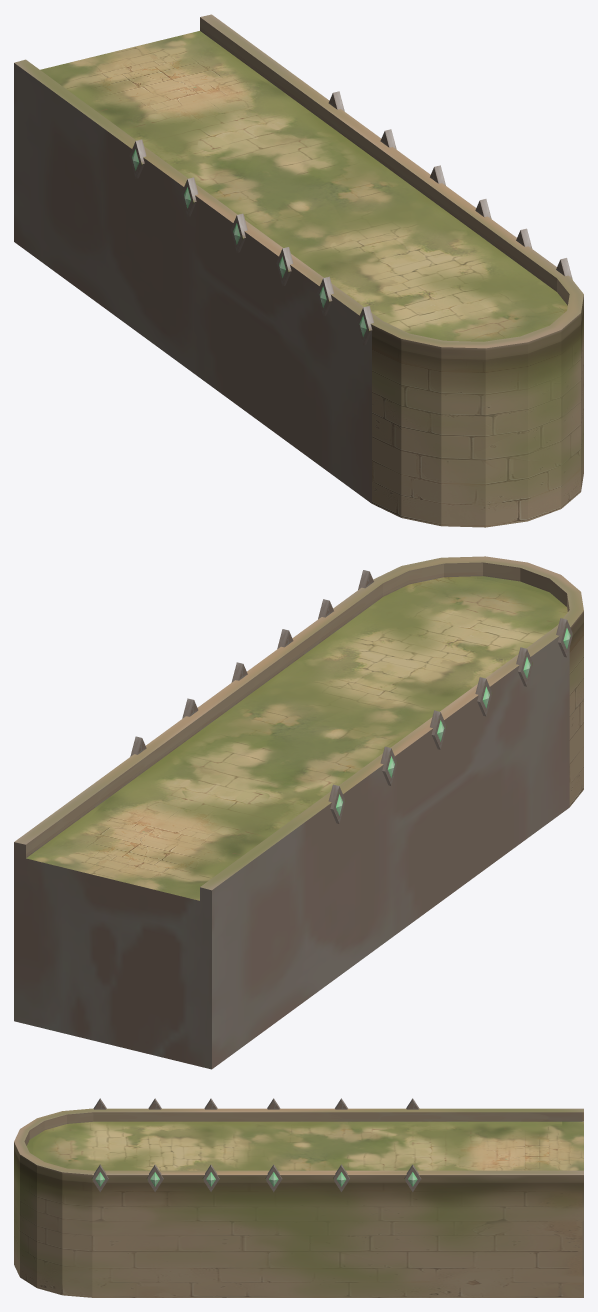
Rendered from Main_1005_obj_01.fbx.
3 views of the same model, one above another, from view 1: azimuth 30°, elevation 25°; view 2: azimuth 150°, elevation 25°; view 3: azimuth 270°, elevation 25° (orthographic). The views are drawn at different scales.
Parts seen in each view (by area): view 1: Circle.005, Cube.018, Cube.020; view 2: Circle.005, Cube.020; view 3: Circle.005, Cube.016, Cube.017, Cube.020, Cube.014, Cube.015, Cube.018.
Boxes of the visible parts, x1,y1,x2,y2 form: Circle.005: (14, 14, 583, 527); Cube.018: (181, 129, 396, 216); Cube.020: (129, 91, 344, 178); Circle.005: (14, 556, 583, 1069); Cube.020: (130, 736, 345, 823); Circle.005: (14, 1108, 583, 1297); Cube.016: (202, 1098, 219, 1191); Cube.017: (265, 1098, 282, 1192); Cube.020: (404, 1098, 421, 1191); Cube.014: (91, 1098, 108, 1191); Cube.015: (146, 1098, 163, 1191); Cube.018: (333, 1098, 349, 1191).
Size of the model in its own units: 196 by 173 by 673.
